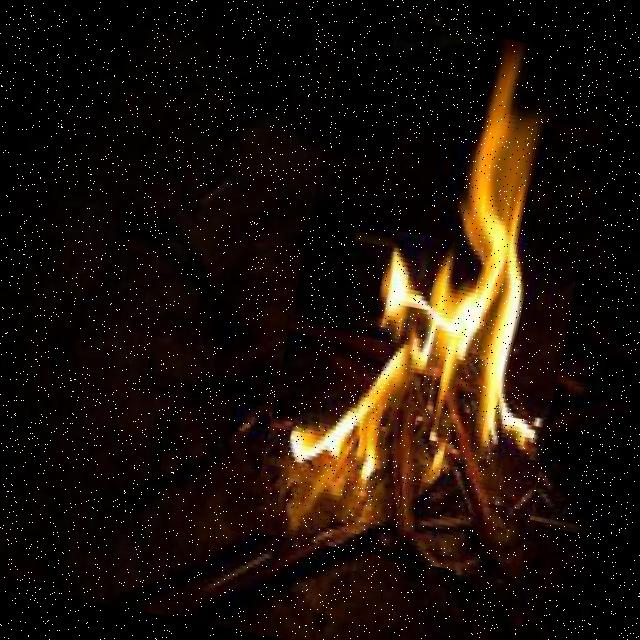fire: (250, 10, 618, 582)
